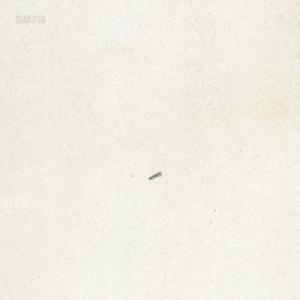Bolt: (147, 170, 161, 181)
